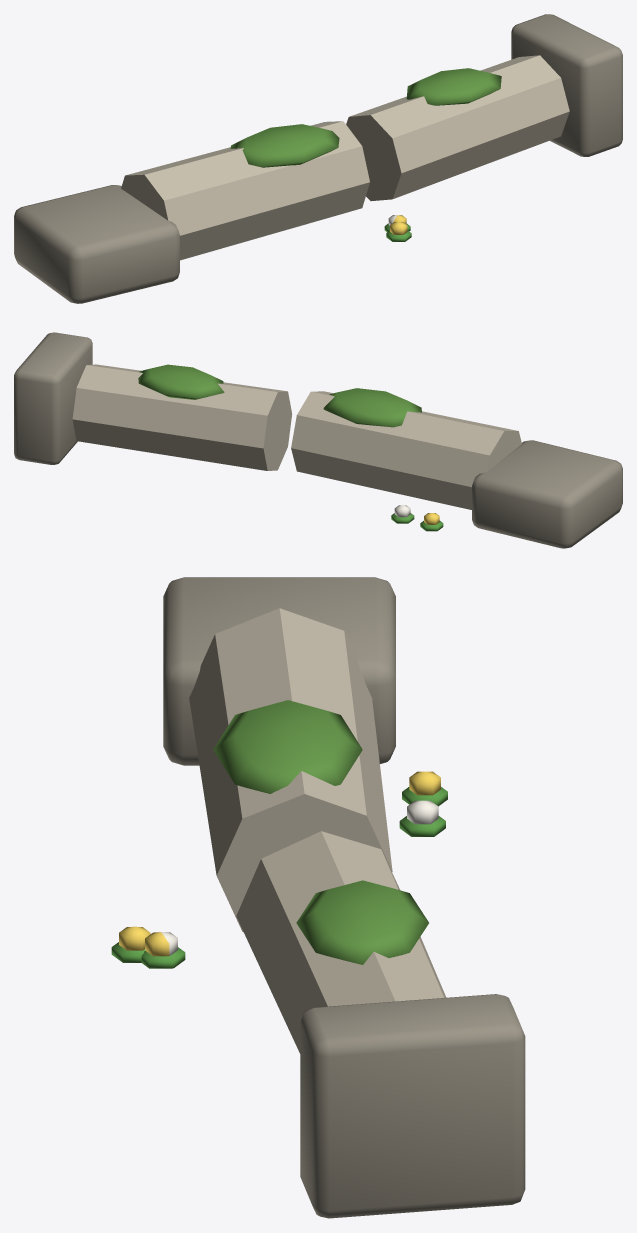
File: RuinPillarFallen.fbx
3 views of the same model, one above another, from view 1: azimuth 30°, elevation 25°; view 2: azimuth 150°, elevation 25°; view 3: azimuth 270°, elevation 25° (orthographic). The views are drawn at different scales.
Parts seen in each view (by area): view 1: Frame; view 2: Frame; view 3: Frame.
Boxes of the visible parts, x1,y1,x2,y2 form: Frame: (14,14,622,303); Frame: (14,332,622,548); Frame: (111,577,525,1218).
Bounding box in the file's own units: 7.49 × 1.24 × 2.49.
1 material, 1 textured.
